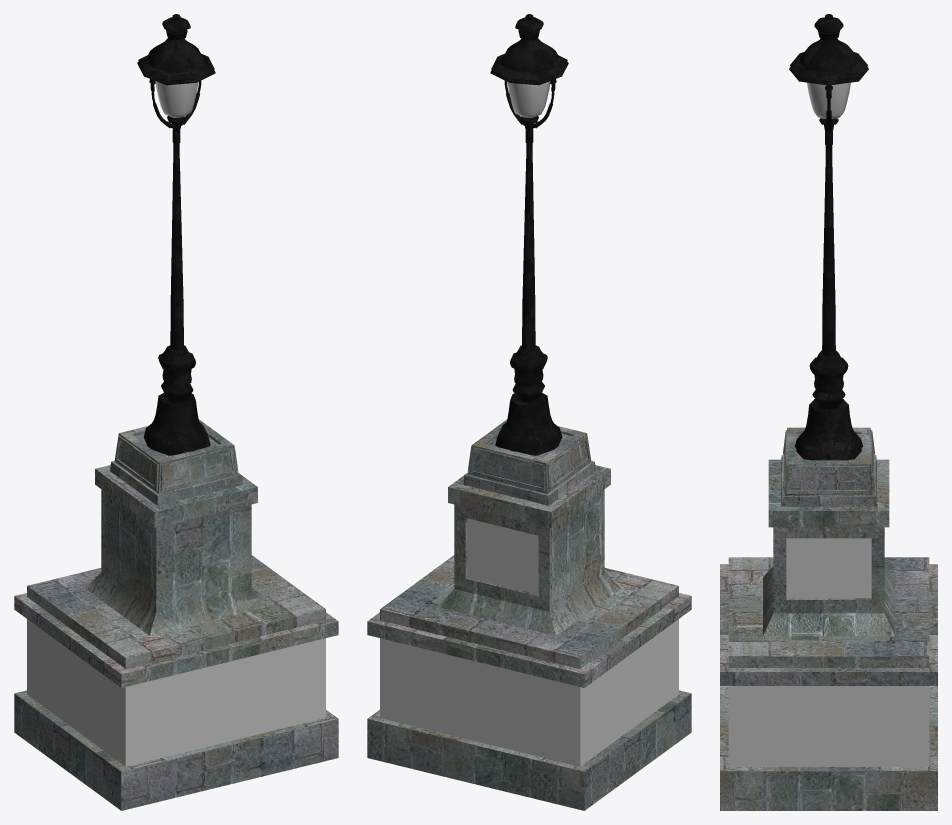
The model's file is light.obj.
The picture shows the model from 3 angles, left to right: view 1: azimuth 30°, elevation 25°; view 2: azimuth 150°, elevation 25°; view 3: azimuth 270°, elevation 25°; orthographic projection.
Visible parts, largest first — view 1: stone, lamp11; view 2: stone, lamp11; view 3: stone, lamp11.
Part boxes in pixels (x1=…): stone: x1=14, y1=465, x2=338, y2=810; lamp11: x1=110, y1=14, x2=242, y2=505; stone: x1=367, y1=465, x2=691, y2=810; lamp11: x1=463, y1=14, x2=595, y2=505; stone: x1=720, y1=459, x2=937, y2=810; lamp11: x1=781, y1=14, x2=876, y2=506.
Bounding box in the file's own units: 0.0146 × 0.047 × 0.0125.
